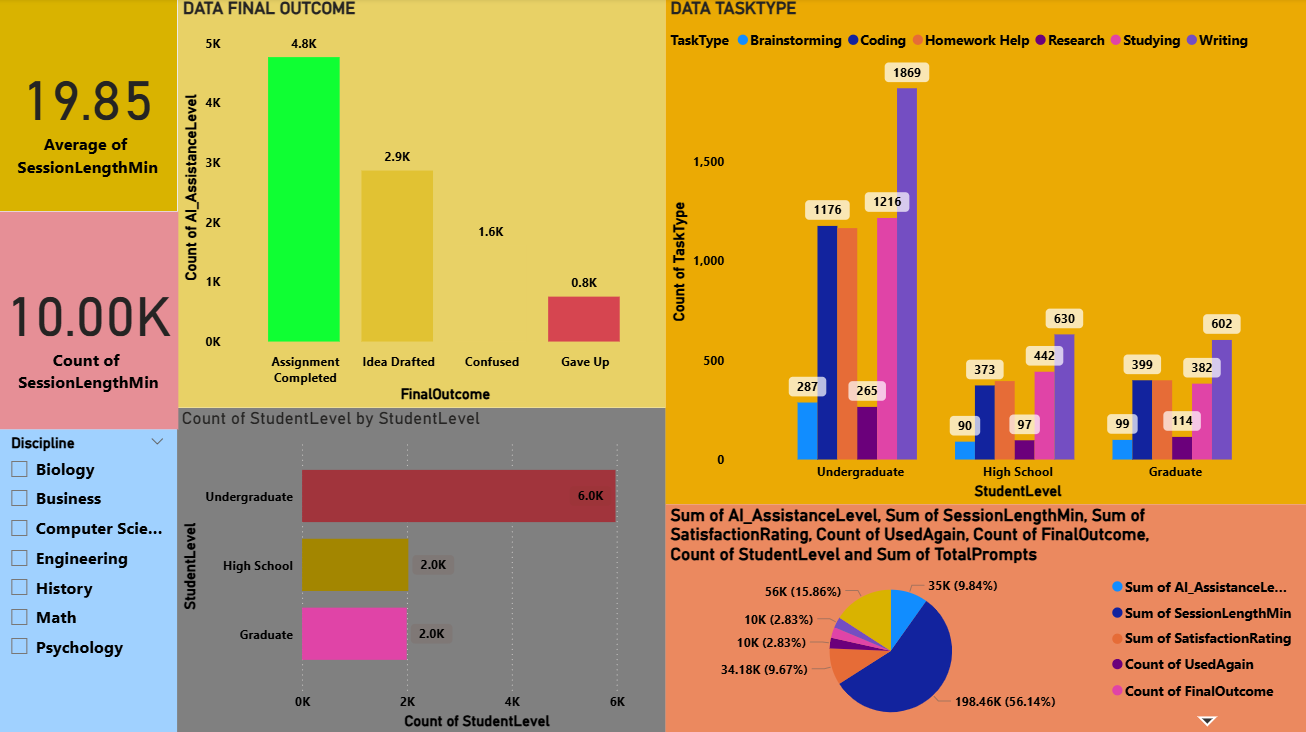

Layout of this report page (visuals, bound fields, positions):
{"tool":"powerbi","page":{"name":"Page 1","canvas":[1280,720],"ordinal":0},"visuals":[{"type":"clusteredColumnChart","title":"DATA FINAL OUTCOME","fields":{"Category":["ai_assistant_usage_student_life.FinalOutcome"],"Y":["CountNonNull(ai_assistant_usage_student_life.AI_AssistanceLevel)"]},"box":[176.1,0,476.9,401.1],"z":0},{"type":"barChart","fields":{"Category":["ai_assistant_usage_student_life.StudentLevel"],"Y":["CountNonNull(ai_assistant_usage_student_life.StudentLevel)"]},"box":[174.9,401.1,478.1,319.2],"z":1000},{"type":"lineClusteredColumnComboChart","title":"DATA TASKTYPE","fields":{"Category":["ai_assistant_usage_student_life.StudentLevel"],"Series":["ai_assistant_usage_student_life.TaskType"],"Y":["CountNonNull(ai_assistant_usage_student_life.TaskType)"]},"box":[653,0,627.3,495.2],"z":2000},{"type":"slicer","fields":{"Values":["ai_assistant_usage_student_life.Discipline"]},"box":[0,421.9,174.9,298.4],"z":3000},{"type":"card","fields":{"Values":["Avg(ai_assistant_usage_student_life.SessionLengthMin)"]},"box":[0,0,176.1,209.1],"z":4000},{"type":"card","fields":{"Values":["CountNonNull(ai_assistant_usage_student_life.SessionLengthMin)"]},"box":[1.2,209.1,174.9,212.8],"z":5000},{"type":"pieChart","fields":{"Y":["Sum(ai_assistant_usage_student_life.AI_AssistanceLevel)","Sum(ai_assistant_usage_student_life.SessionLengthMin)","Sum(ai_assistant_usage_student_life.SatisfactionRating)","CountNonNull(ai_assistant_usage_student_life.UsedAgain)","CountNonNull(ai_assistant_usage_student_life.FinalOutcome)","CountNonNull(ai_assistant_usage_student_life.StudentLevel)","Sum(ai_assistant_usage_student_life.TotalPrompts)"]},"box":[653,495.2,627.3,225],"z":6000}]}

Visuals, with their boxes in screenshot pixels (x1, y1, x2, y2), scaled from the page's 1280x720 canvas onto the 1306x732 screenshot:
"DATA FINAL OUTCOME" clusteredColumnChart: l=180, t=0, r=666, b=408
barChart - ai_assistant_usage_student_life.StudentLevel x CountNonNull(ai_assistant_usage_student_life.StudentLevel): l=178, t=408, r=666, b=731
"DATA TASKTYPE" lineClusteredColumnComboChart: l=666, t=0, r=1305, b=503
slicer - ai_assistant_usage_student_life.Discipline: l=0, t=429, r=178, b=731
card - Avg(ai_assistant_usage_student_life.SessionLengthMin): l=0, t=0, r=180, b=213
card - CountNonNull(ai_assistant_usage_student_life.SessionLengthMin): l=1, t=213, r=180, b=429
pieChart - Sum(ai_assistant_usage_student_life.AI_AssistanceLevel) x Sum(ai_assistant_usage_student_life.SessionLengthMin): l=666, t=503, r=1305, b=731
